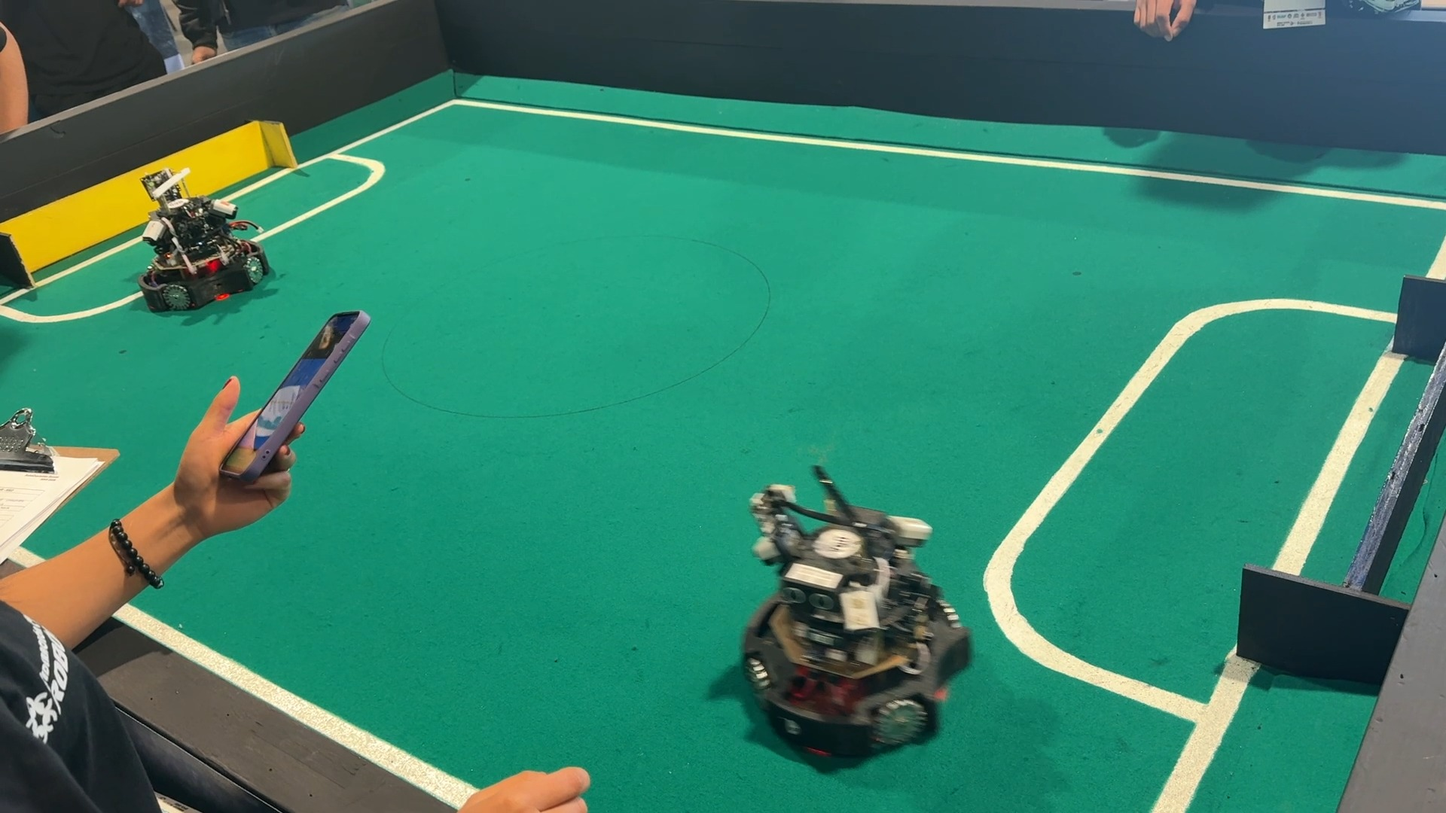Robot: (716, 450, 967, 776), (104, 154, 282, 329)
